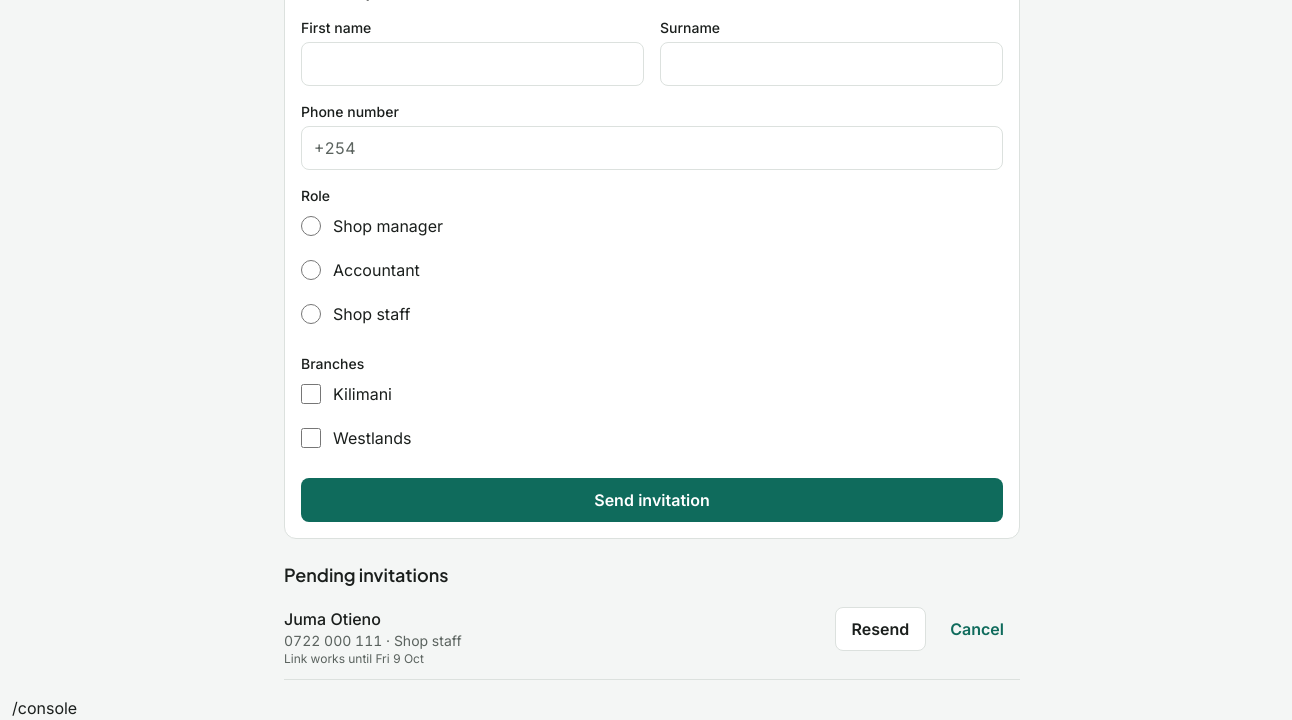
Test: A-41 pending invitations › resends
The width and height of the screenshot is (1292, 720).
(page scrolled)
What coordinates should you click on to do the following:
click the button "Resend"
I would click on:
 (880, 629)
Its box is x1=834 y1=607 x2=926 y2=651.
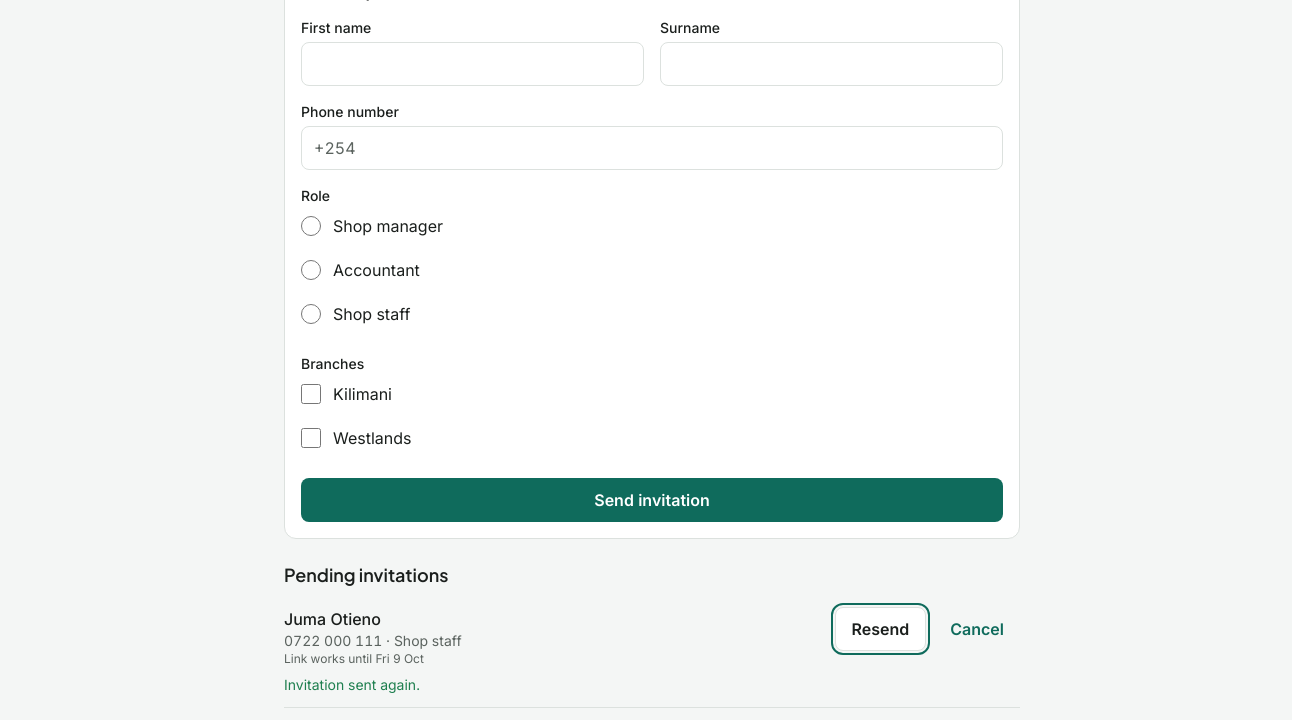
Expected: the text "Invitation sent again." is shown, x1=284 y1=676 x2=420 y2=693
